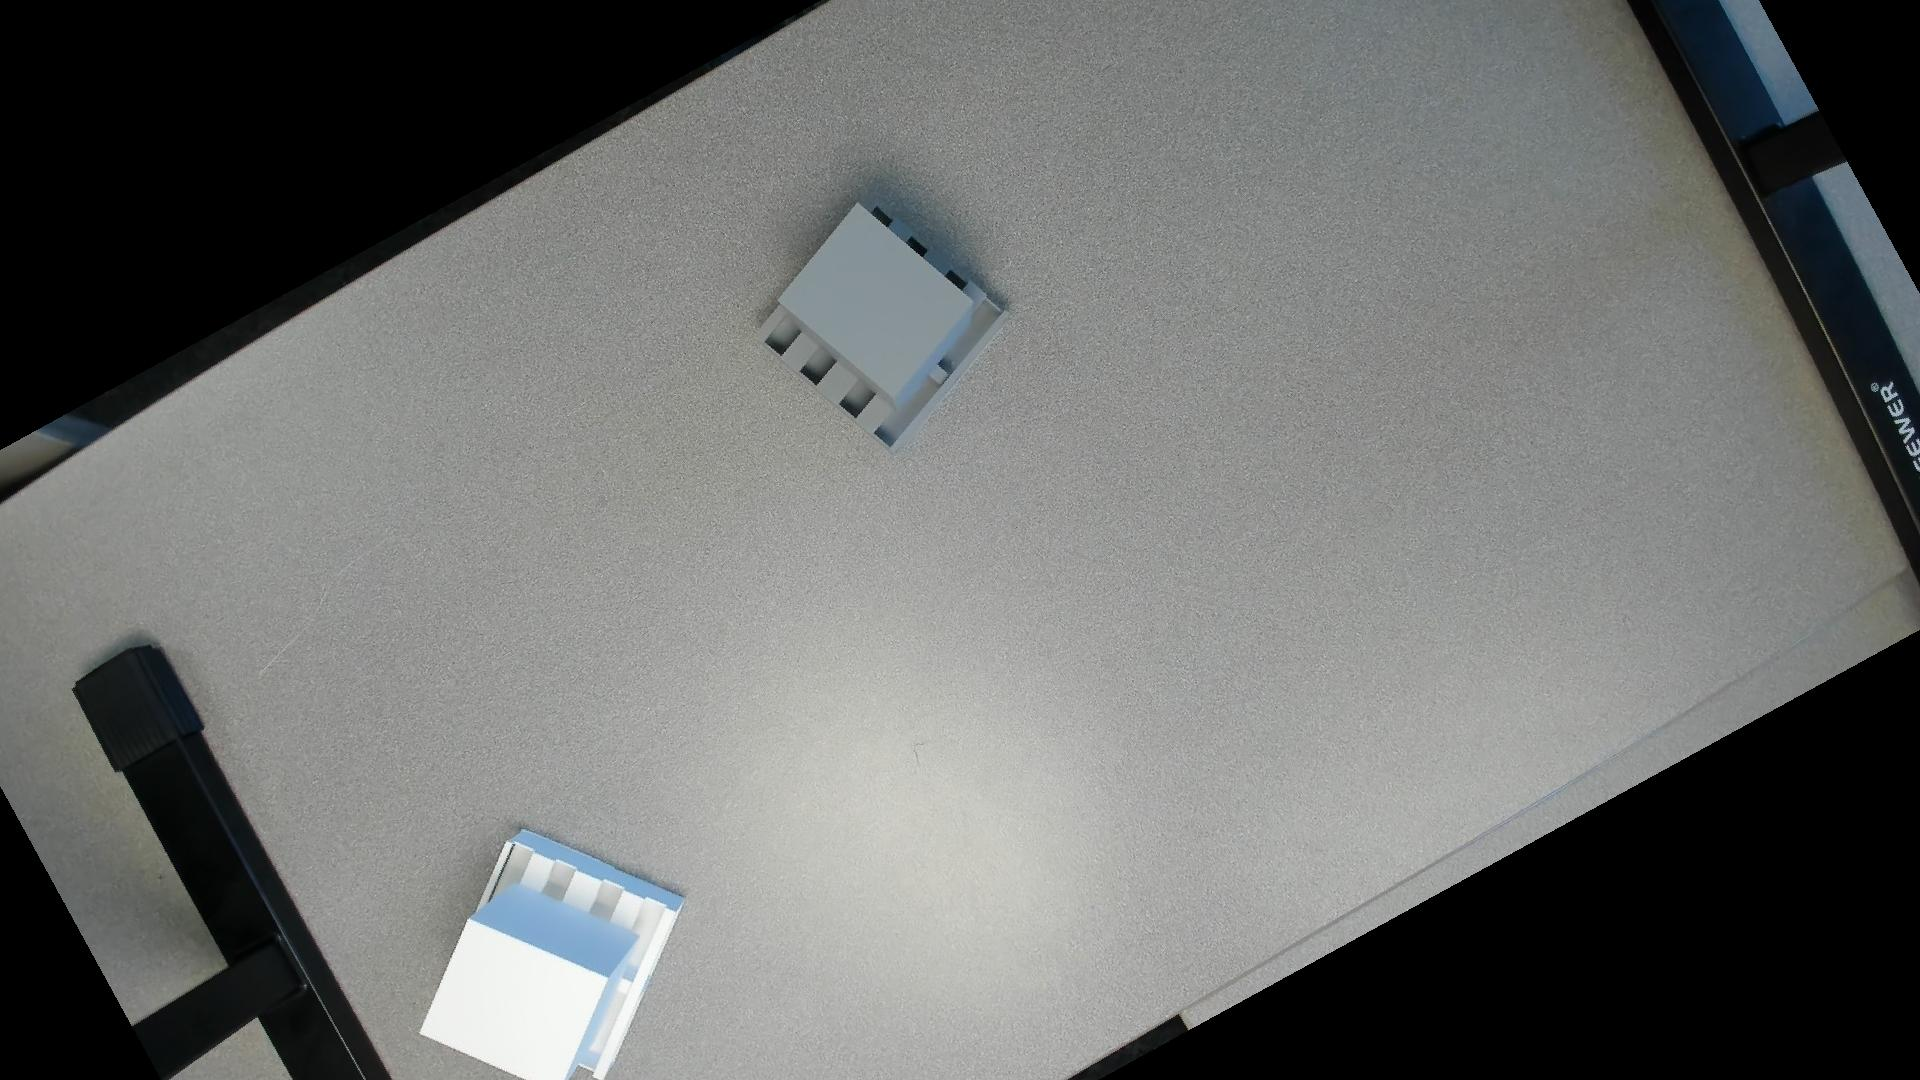grey pallet: (752, 185, 1019, 458)
white pallet: (419, 814, 691, 1080)
